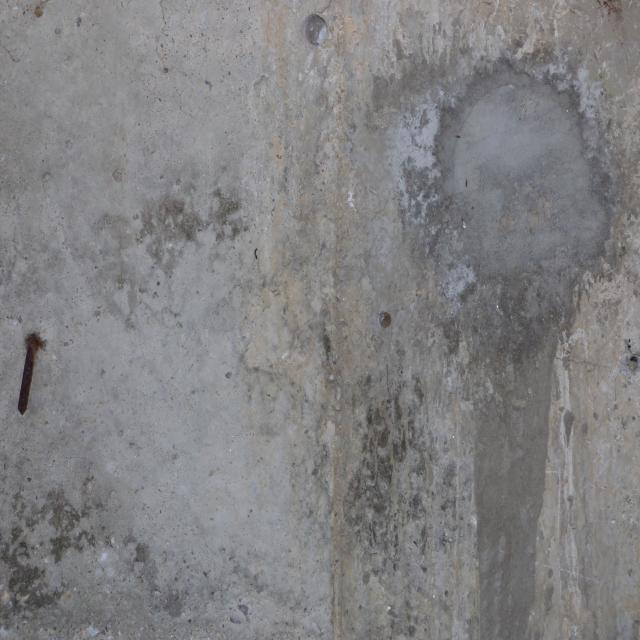corrosion: (9, 317, 59, 438)
